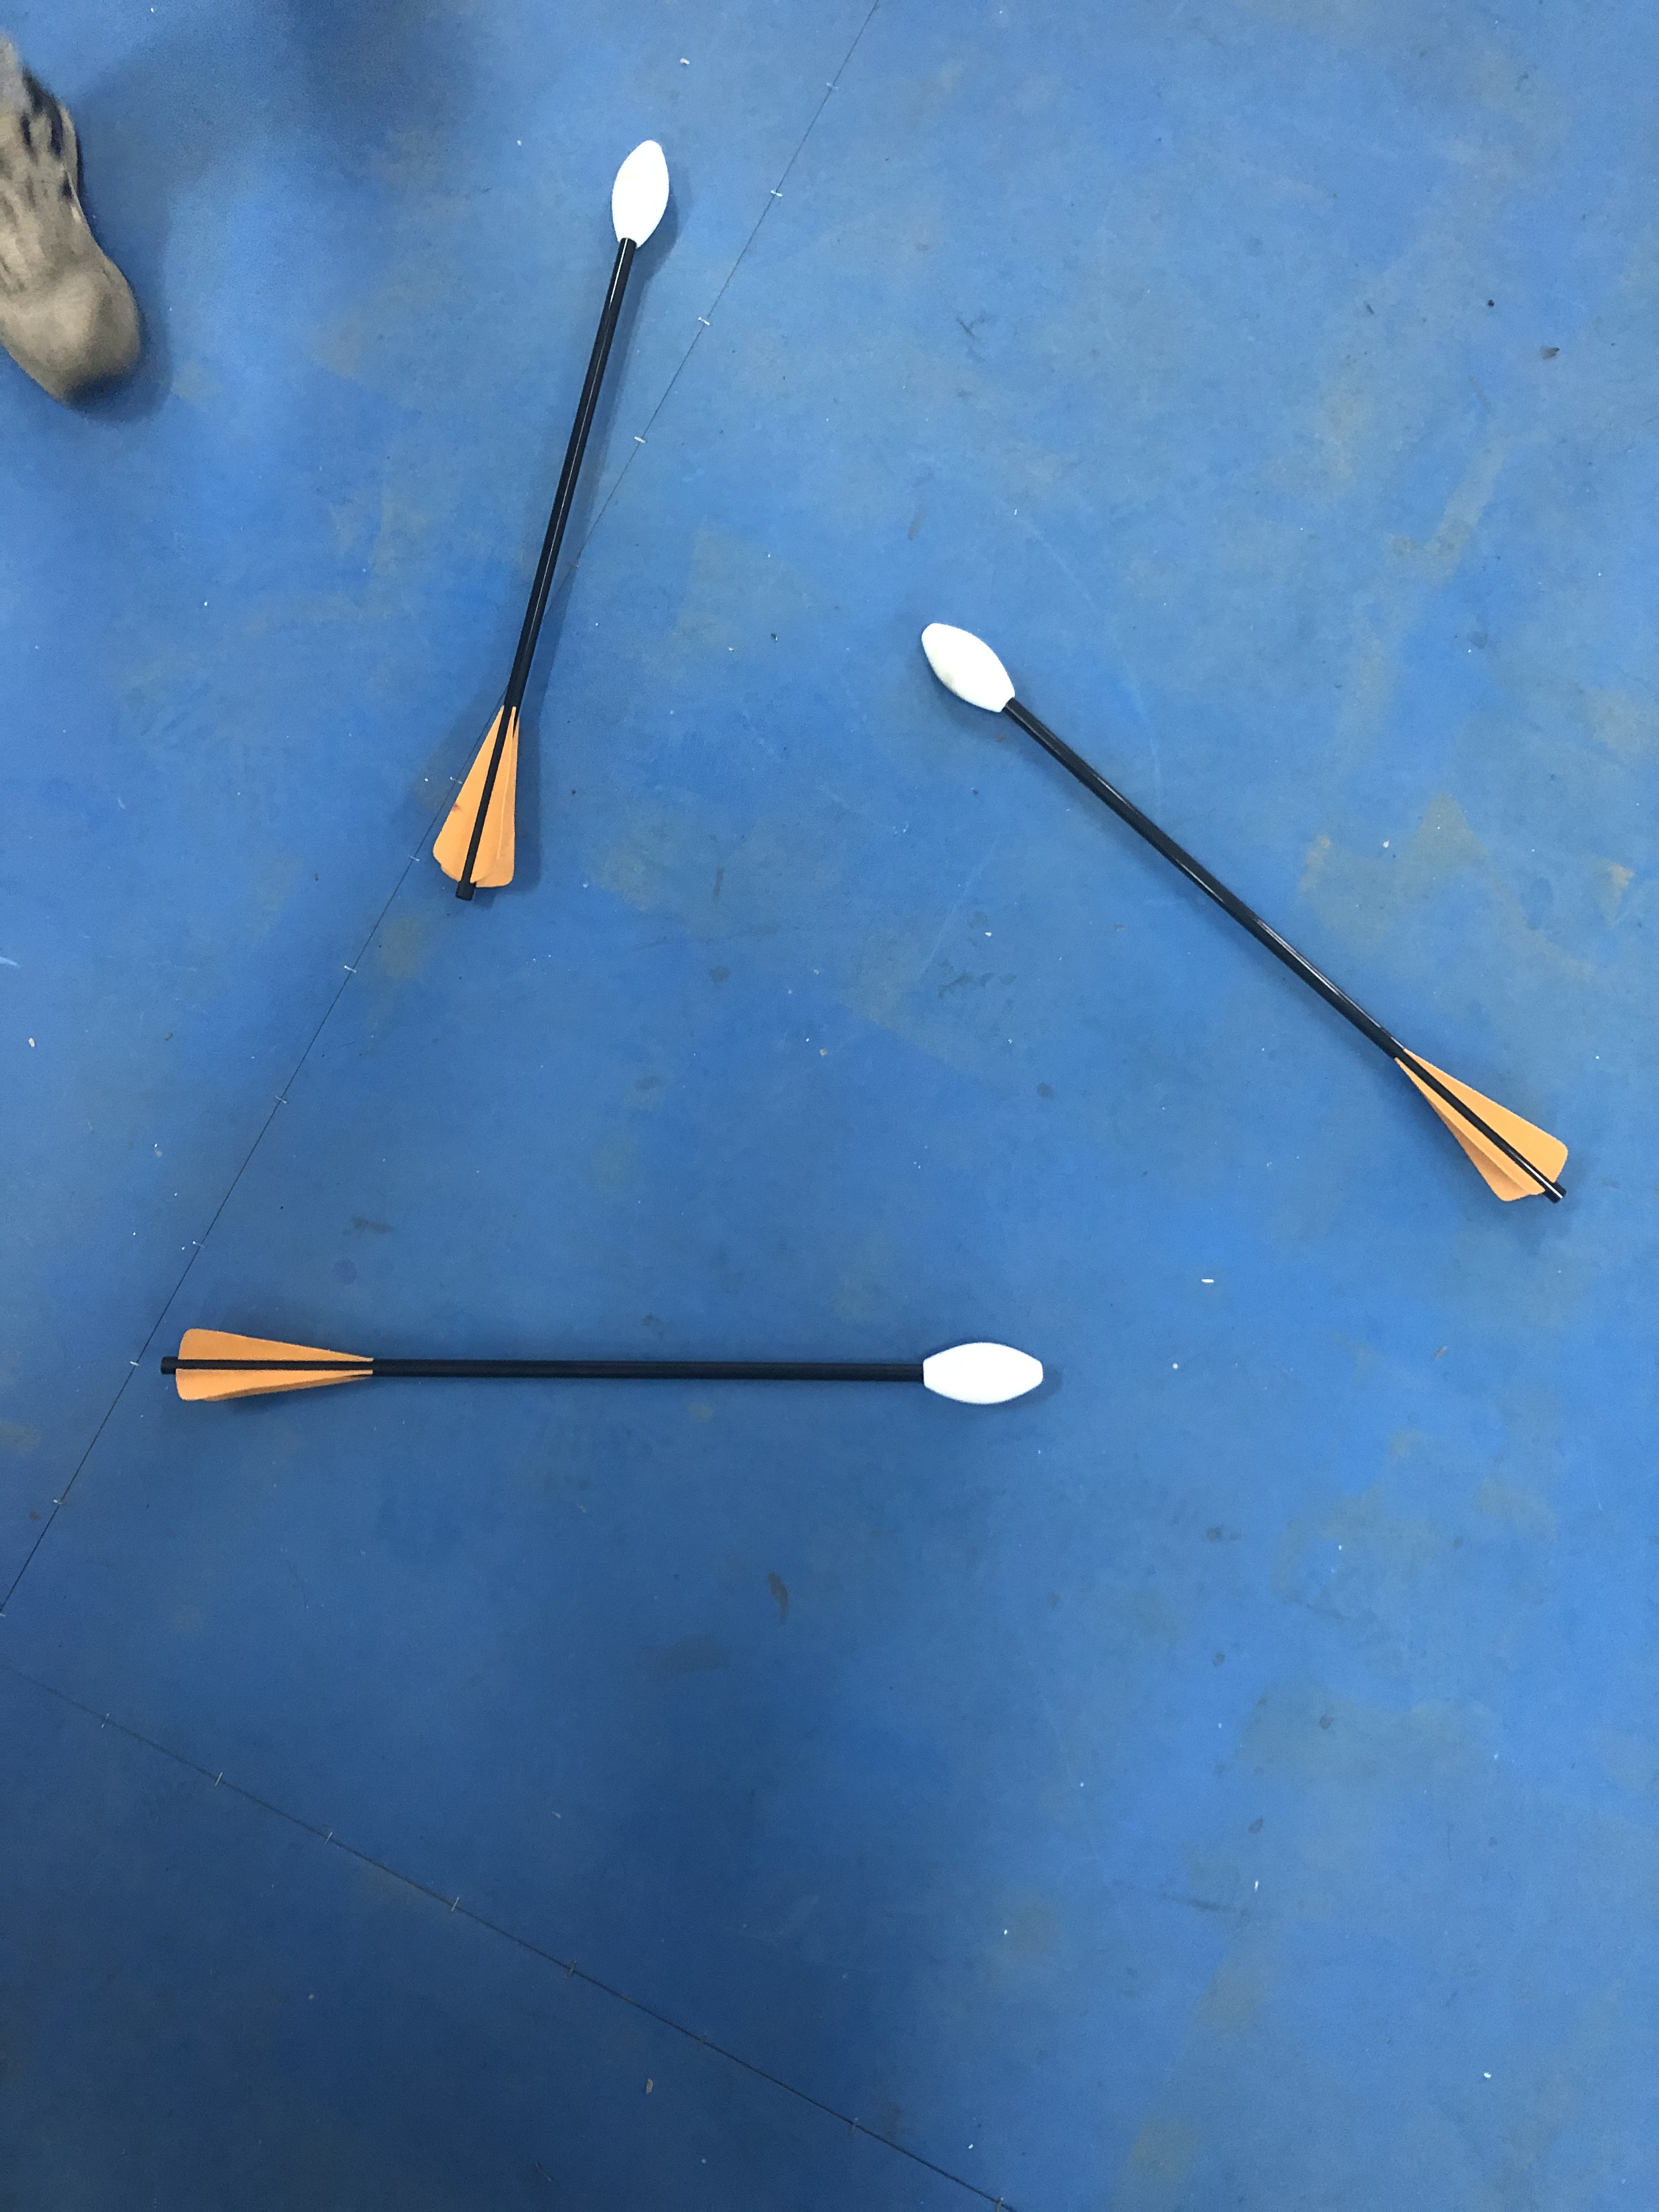arrow: (915, 618, 1574, 1214), (420, 134, 680, 904), (153, 1324, 1053, 1411)
arrowFront: (913, 611, 1021, 714), (911, 1339, 1051, 1409), (610, 132, 676, 253)
